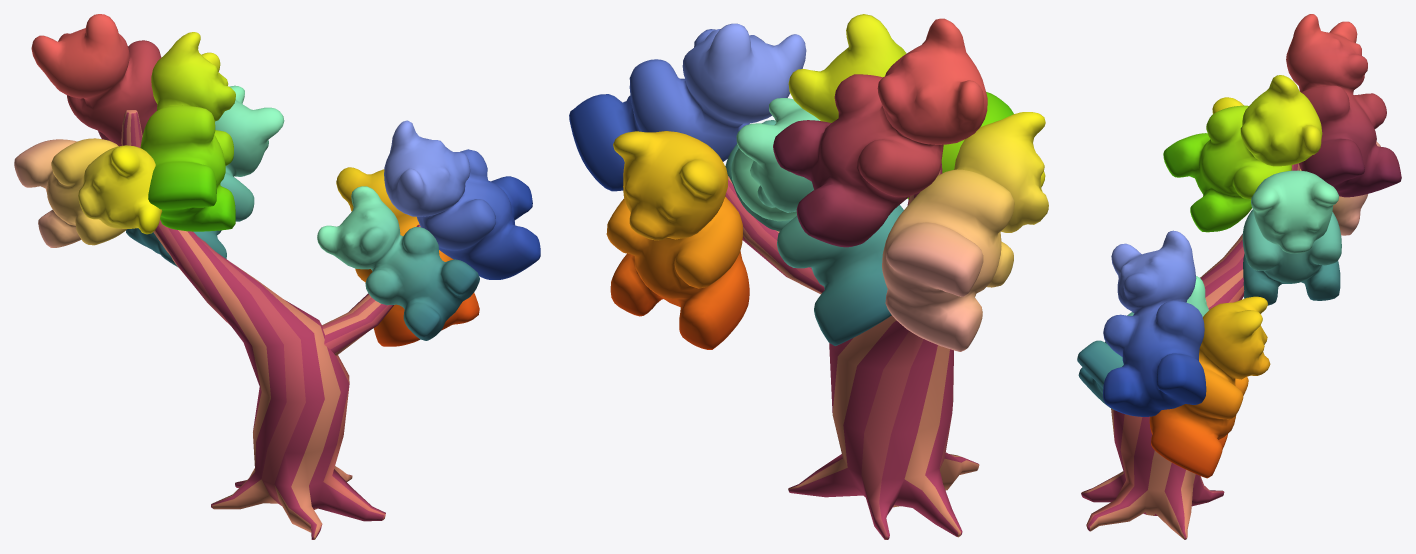
File: 糖果树2.fbx
The picture shows the model from 3 angles, left to right: view 1: azimuth 30°, elevation 25°; view 2: azimuth 150°, elevation 25°; view 3: azimuth 270°, elevation 25°; orthographic projection. The views are drawn at different scales.
Parts seen in each view (by area): view 1: model_4.231, model_6.006, model_6.007, model_6.008, model_6.011, model_6.005, model_6.009, model_6.010; view 2: model_6.005, model_4.231, model_6.008, model_6.010, model_6.006, model_6.009, model_6.007, model_6.011; view 3: model_6.006, model_6.007, model_6.005, model_6.009, model_6.010, model_4.231, model_6.011, model_6.008.
Part boxes in pixels (left/top/right/bottom): model_4.231: left=121, top=110, right=420, bottom=539; model_6.006: left=384, top=120, right=540, bottom=279; model_6.007: left=140, top=32, right=235, bottom=231; model_6.008: left=14, top=138, right=162, bottom=247; model_6.011: left=317, top=186, right=479, bottom=340; model_6.005: left=31, top=14, right=161, bottom=146; model_6.009: left=126, top=85, right=284, bottom=267; model_6.010: left=336, top=167, right=479, bottom=346; model_6.005: left=773, top=18, right=987, bottom=247; model_4.231: left=725, top=162, right=979, bottom=539; model_6.008: left=882, top=112, right=1048, bottom=351; model_6.010: left=606, top=131, right=749, bottom=349; model_6.006: left=569, top=23, right=806, bottom=191; model_6.009: left=736, top=98, right=903, bottom=345; model_6.007: left=788, top=14, right=1013, bottom=199; model_6.011: left=725, top=120, right=796, bottom=231; model_6.006: left=1103, top=230, right=1206, bottom=416; model_6.007: left=1163, top=75, right=1322, bottom=232; model_6.005: left=1286, top=14, right=1401, bottom=197; model_6.009: left=1242, top=170, right=1341, bottom=305; model_6.010: left=1149, top=296, right=1270, bottom=478; model_4.231: left=1081, top=163, right=1300, bottom=539; model_6.011: left=1077, top=276, right=1208, bottom=410; model_6.008: left=1212, top=97, right=1380, bottom=235.
Size of the model in its own units: 196 by 209 by 140.
